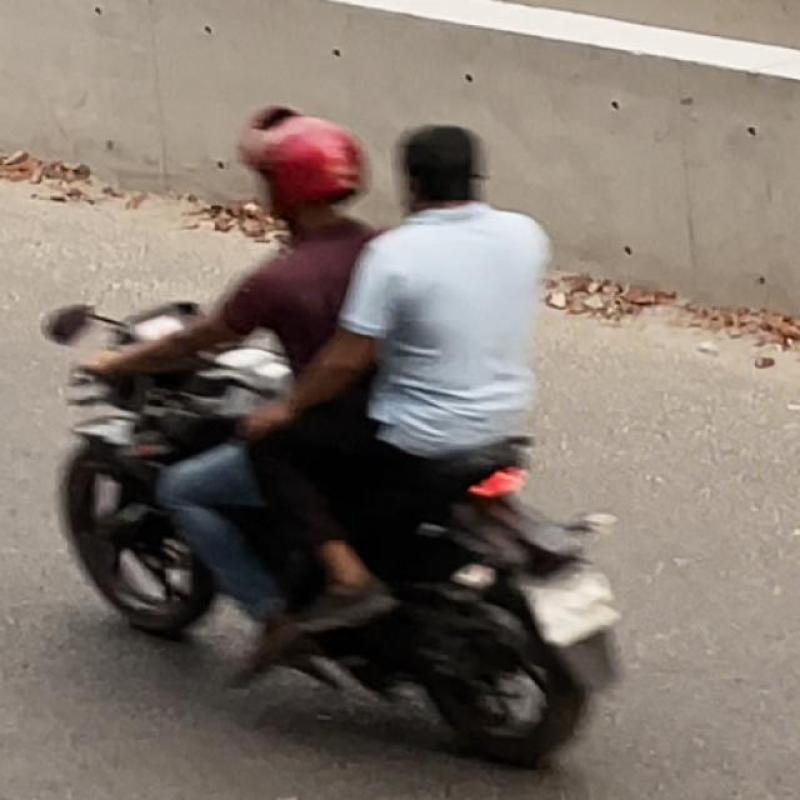nohelmet: (388, 105, 526, 214)
